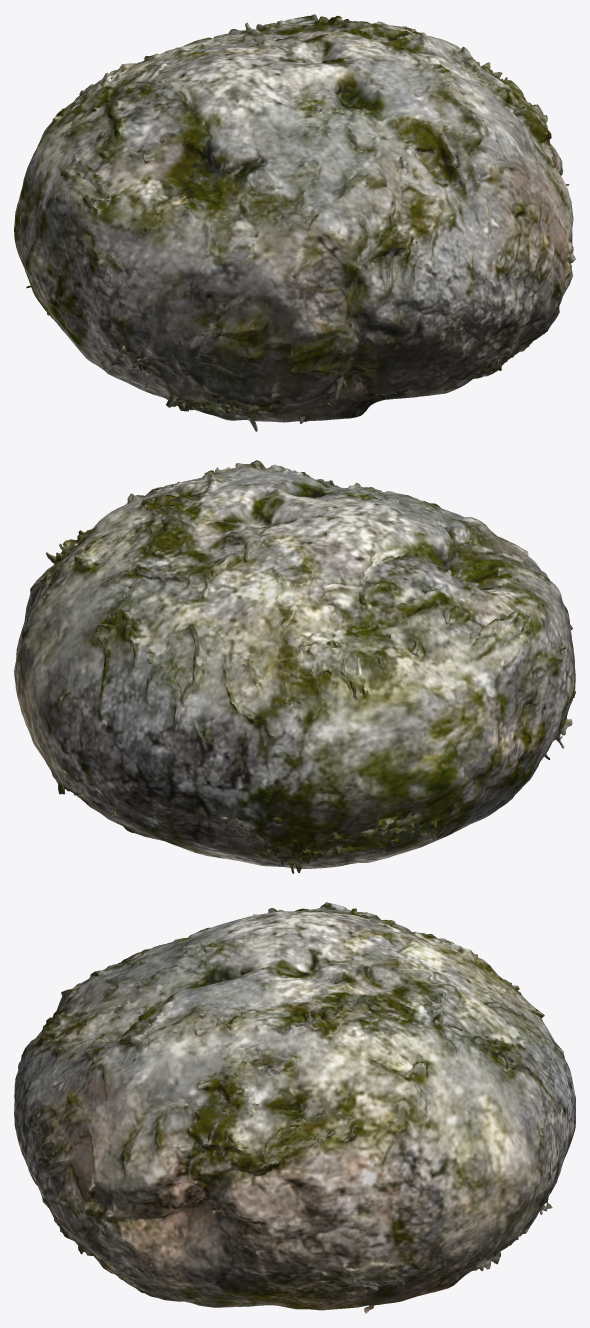
Rendered from algae-stone-v13.glb.
The picture shows the model from 3 angles, top to bottom: view 1: azimuth 30°, elevation 25°; view 2: azimuth 150°, elevation 25°; view 3: azimuth 270°, elevation 25°; orthographic projection.
Visible parts, largest first — view 1: geometry_0; view 2: geometry_0; view 3: geometry_0.
Part boxes in pixels (x1,y1,x2,y2): geometry_0: (14,14,575,431); geometry_0: (14,460,575,873); geometry_0: (14,902,575,1313).
Bounding box in the file's own units: 0.35 × 0.2132 × 0.3535.
1 material, 1 textured.
